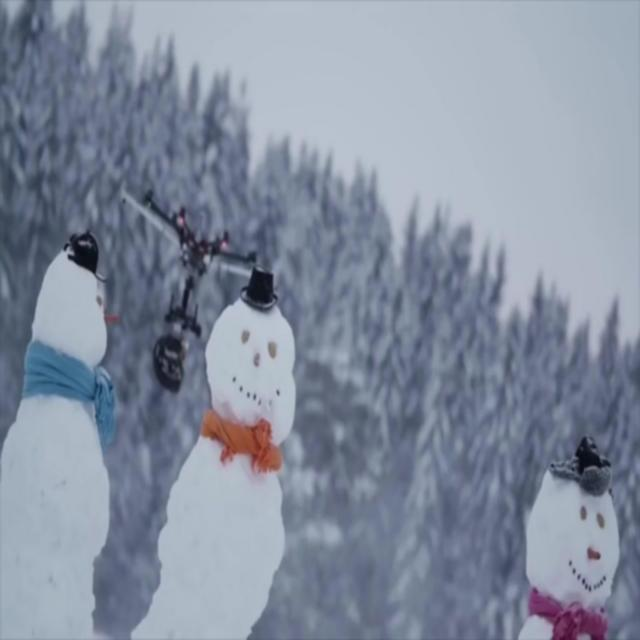UAV: (120, 180, 266, 292)
